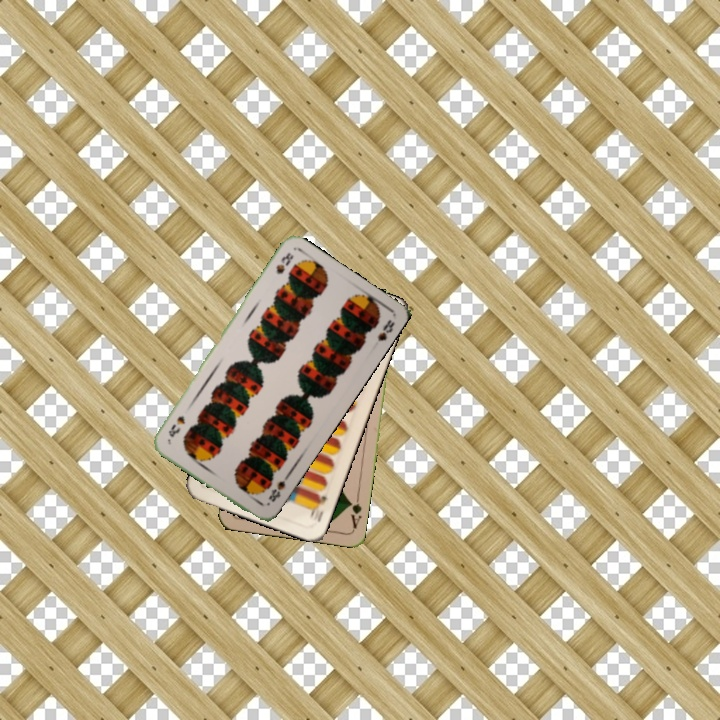E10: (306, 490, 329, 525)
GA: (345, 491, 364, 531)
S8: (264, 472, 291, 505), (272, 248, 296, 277)
